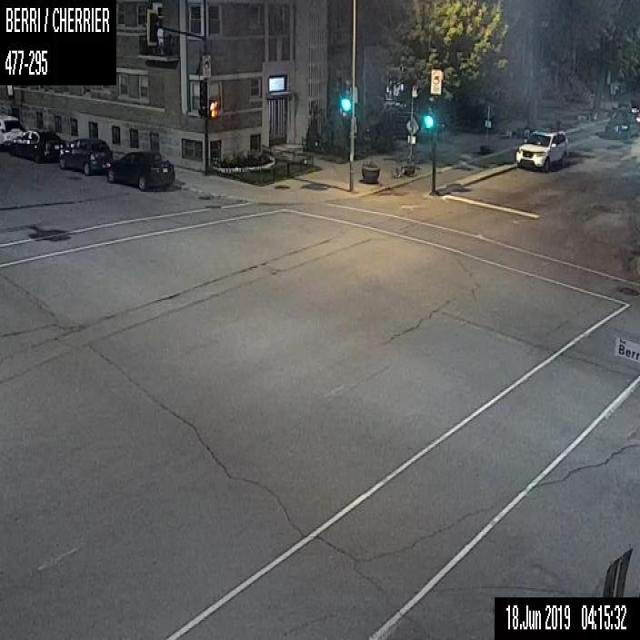vehicle: (105, 150, 175, 190), (515, 128, 567, 171), (58, 137, 112, 174), (8, 129, 64, 161), (603, 105, 639, 138), (0, 112, 21, 149)
